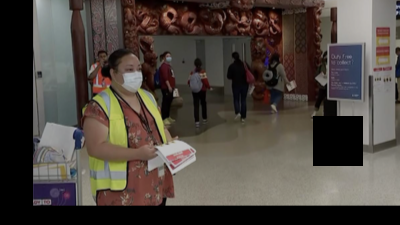with_mask: (116, 61, 145, 93), (166, 53, 172, 61)
